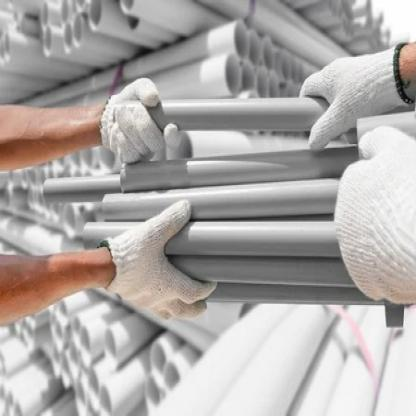PVC: (42, 111, 415, 305), (1, 288, 414, 414), (3, 0, 404, 110), (0, 141, 126, 251), (146, 95, 327, 134)
